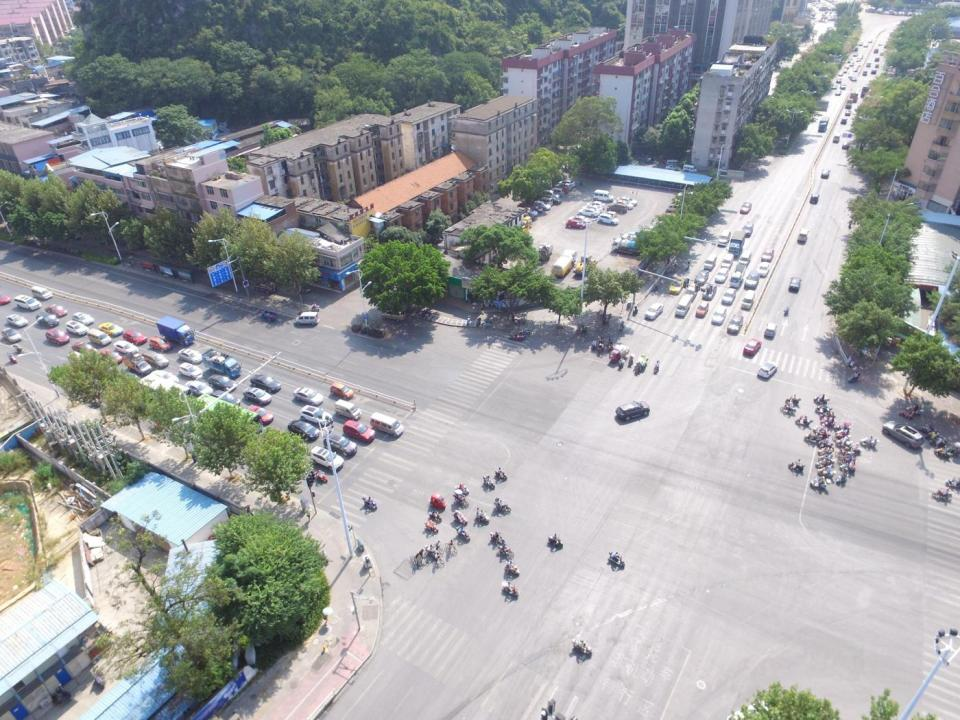bus: (139, 374, 265, 435), (860, 83, 869, 98), (850, 88, 859, 103)
car: (312, 445, 344, 472), (323, 433, 357, 458), (343, 419, 374, 444), (615, 400, 650, 421), (300, 405, 333, 425), (250, 374, 282, 393), (288, 420, 319, 439), (243, 386, 273, 405), (246, 404, 274, 424), (142, 349, 169, 368), (294, 387, 324, 404), (208, 374, 236, 392), (212, 390, 240, 407), (186, 380, 213, 396), (329, 382, 354, 399), (45, 328, 69, 345), (179, 362, 203, 379), (122, 329, 147, 345), (756, 360, 778, 378), (644, 302, 664, 321), (98, 322, 123, 337), (66, 320, 89, 336), (177, 348, 203, 362), (1, 327, 22, 344), (71, 342, 98, 355), (253, 280, 278, 294), (100, 349, 123, 364), (149, 336, 172, 351), (742, 338, 762, 355), (152, 370, 178, 383), (381, 309, 407, 322), (113, 340, 138, 353), (727, 314, 744, 333), (5, 313, 28, 327), (44, 304, 68, 317), (72, 312, 94, 326), (712, 306, 727, 324), (695, 301, 710, 319), (669, 278, 685, 294), (722, 288, 738, 304), (694, 269, 709, 286), (685, 283, 698, 302), (745, 270, 758, 289), (599, 213, 619, 225), (607, 202, 627, 214), (702, 284, 717, 300), (715, 267, 729, 284), (760, 247, 775, 262), (741, 221, 754, 238), (566, 219, 587, 229), (764, 322, 777, 338), (758, 261, 770, 277), (617, 197, 638, 206), (578, 209, 600, 217), (582, 205, 604, 213), (557, 179, 576, 188), (534, 200, 551, 210), (790, 277, 802, 291), (586, 201, 606, 209), (614, 200, 634, 208), (739, 202, 752, 214), (546, 195, 563, 204), (525, 204, 544, 212), (522, 207, 538, 216), (0, 293, 11, 306), (809, 193, 820, 204), (820, 169, 831, 179), (557, 186, 570, 194), (570, 216, 588, 221), (556, 183, 571, 189), (666, 163, 677, 170), (644, 157, 655, 163), (834, 89, 842, 96), (844, 108, 851, 116), (840, 117, 848, 124), (842, 142, 850, 149), (836, 76, 842, 84), (849, 76, 857, 81), (852, 51, 858, 57), (872, 48, 878, 54), (870, 69, 876, 75), (831, 84, 837, 90), (839, 84, 846, 89), (845, 63, 850, 69), (874, 56, 879, 62), (874, 63, 879, 69), (850, 61, 854, 68), (848, 58, 853, 63), (838, 71, 843, 76), (879, 51, 884, 56), (856, 57, 860, 62)
truck: (551, 249, 578, 278)
van: (156, 316, 196, 346), (202, 349, 242, 378), (884, 420, 924, 448), (370, 412, 403, 439), (122, 351, 152, 376), (333, 399, 362, 420), (14, 294, 42, 311), (87, 328, 112, 346), (728, 231, 746, 256), (35, 311, 60, 327), (730, 265, 747, 288), (295, 311, 319, 326), (675, 295, 691, 317), (30, 285, 53, 300), (594, 189, 614, 203), (741, 289, 755, 309), (718, 229, 731, 247), (738, 250, 751, 267), (721, 253, 734, 270), (703, 254, 716, 271), (817, 117, 829, 133), (797, 228, 810, 242), (544, 189, 560, 198), (683, 164, 697, 174), (666, 158, 680, 166), (844, 98, 853, 110), (537, 198, 553, 204), (552, 188, 564, 196), (832, 134, 840, 143), (862, 70, 868, 76), (865, 62, 871, 67)
